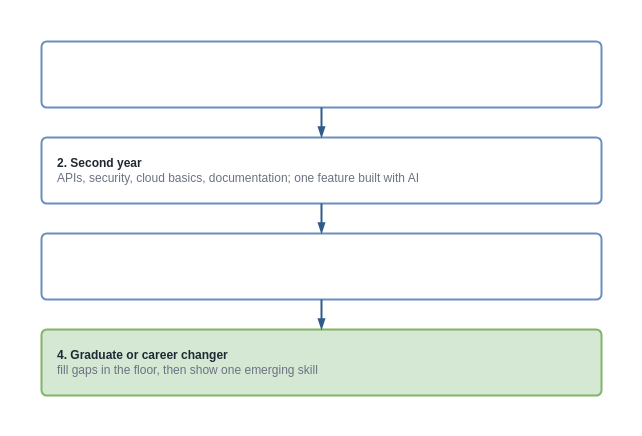
Image size: 642x436. Some labels were removed from this diagram. The shapes that lost their labels are listed below. From the top down, each one's centre as x and y in pixels, then its label:
the point at 321,74: 1. First year the floor, plus AI literacy, databases, problem-solving
the point at 321,266: 3. Final year CI/CD, two finished projects, one emerging AI skill
